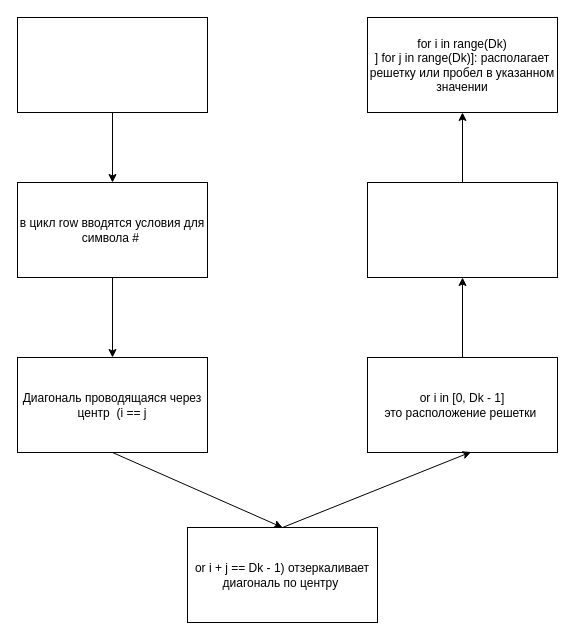
Image size: 575x640. Some labels were removed from this diagram. The shapes that lost their labels are listed below. From the top down, each one's centre as x and y in pixels, then its label:
point 112,64: ввод данных осуществляется через Dk = int(input("Введите размер ковра: "))
point 462,230: or j in [0, Dk - 1]] расположение пробела
